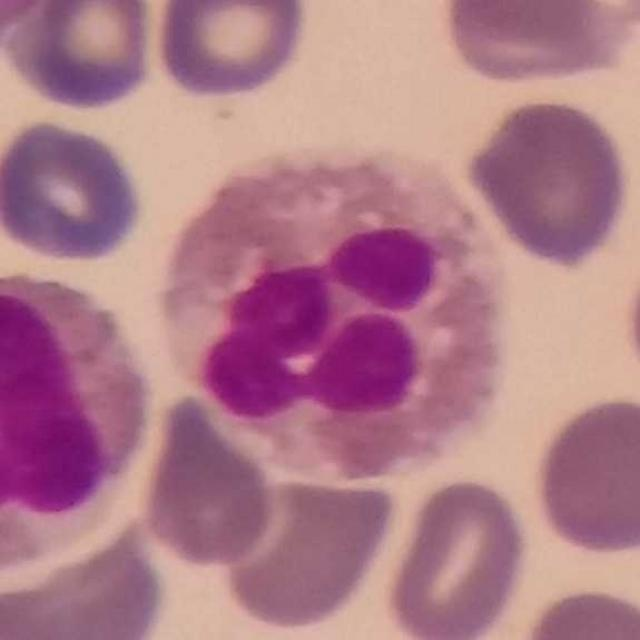Eosinophil: (161, 151, 515, 488), (0, 268, 159, 570)
RBC: (209, 470, 400, 633), (461, 93, 635, 270), (136, 388, 282, 574), (380, 472, 533, 639), (1, 115, 149, 266), (1, 522, 172, 640), (528, 391, 640, 560), (438, 0, 634, 90), (150, 0, 313, 104), (16, 0, 162, 115), (436, 0, 634, 38), (513, 582, 640, 640), (620, 233, 640, 413), (0, 0, 63, 50)
